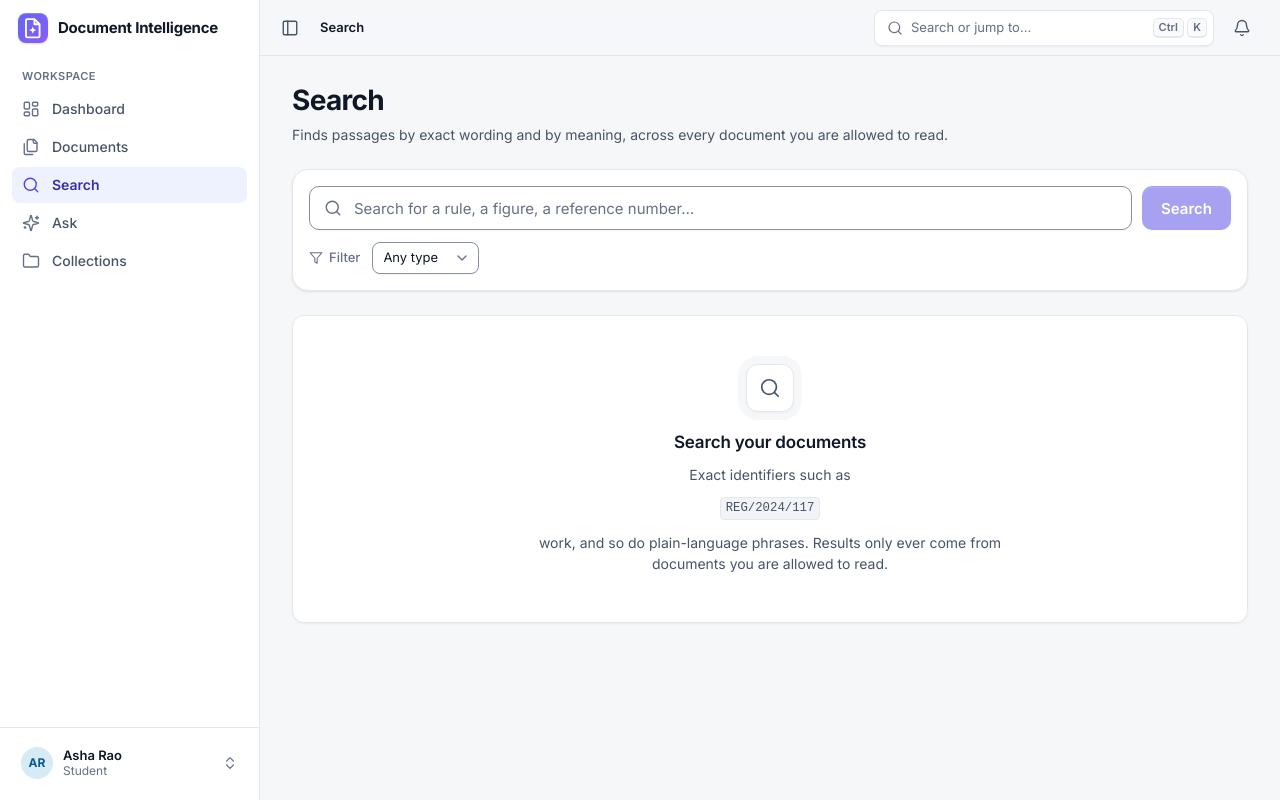
Test case: search results by document › puts a notice in plain words and keeps the server's diagnostics from students
Type "fees" into the search field named "Search documents" at (721, 208), box [309, 186, 1132, 230]
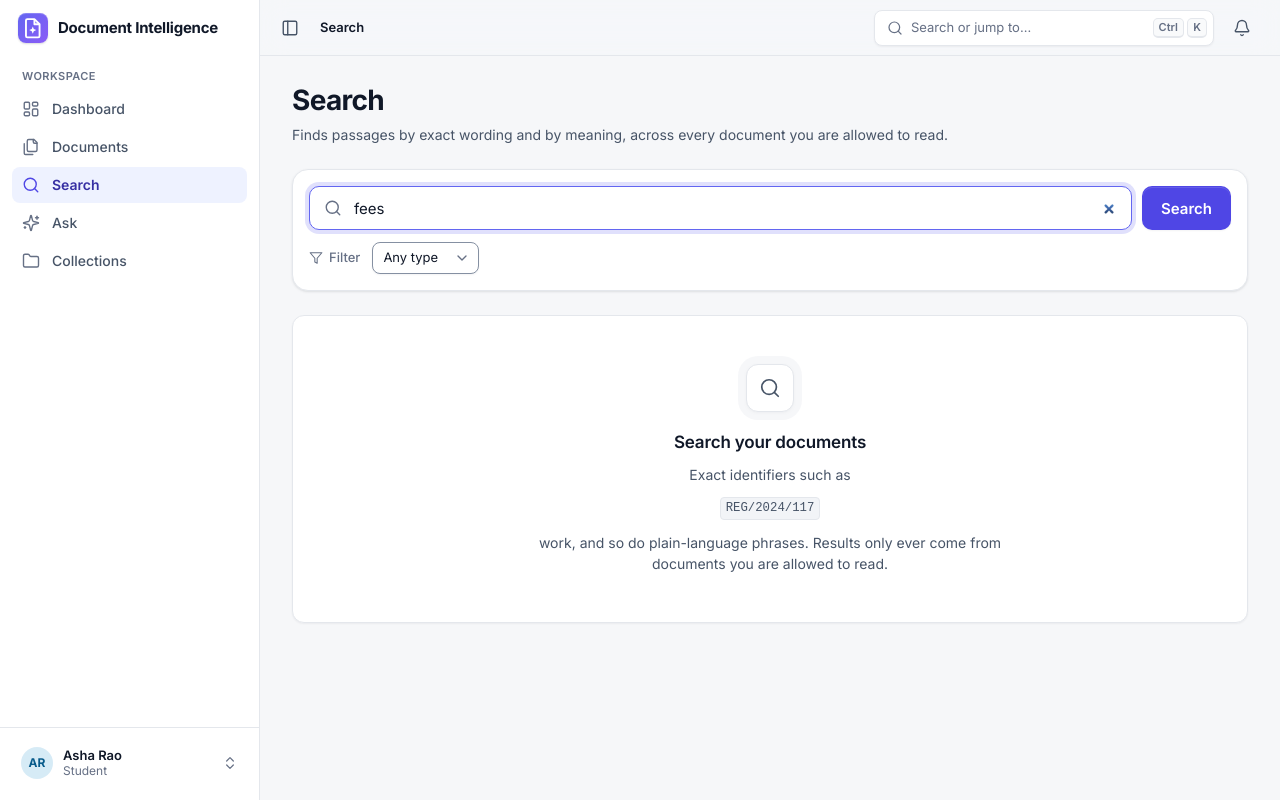
Click the button "Search" at (1187, 208), box [1142, 186, 1231, 230]
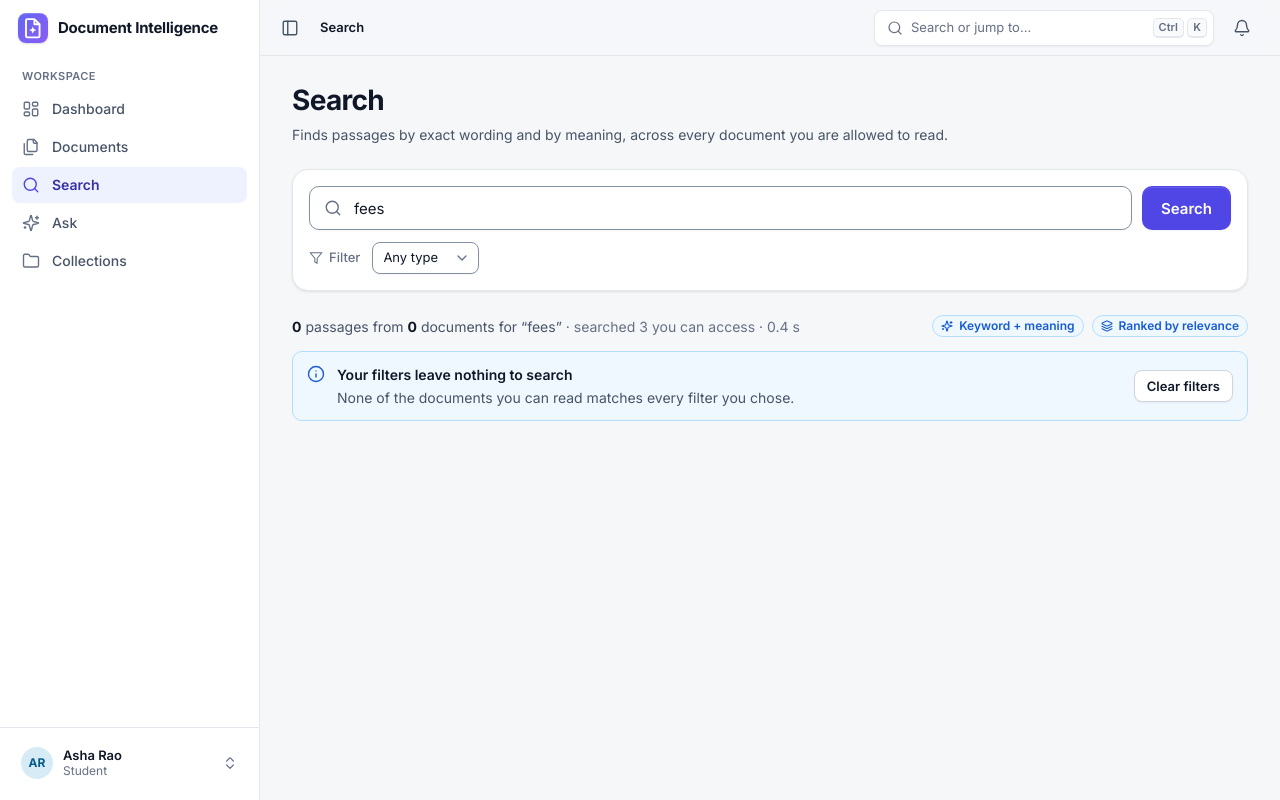
Result: the text "Your filters leave nothing to search" is shown at [337, 366, 572, 383]
Result: the button "Clear filters" is shown at [1134, 370, 1233, 402]
